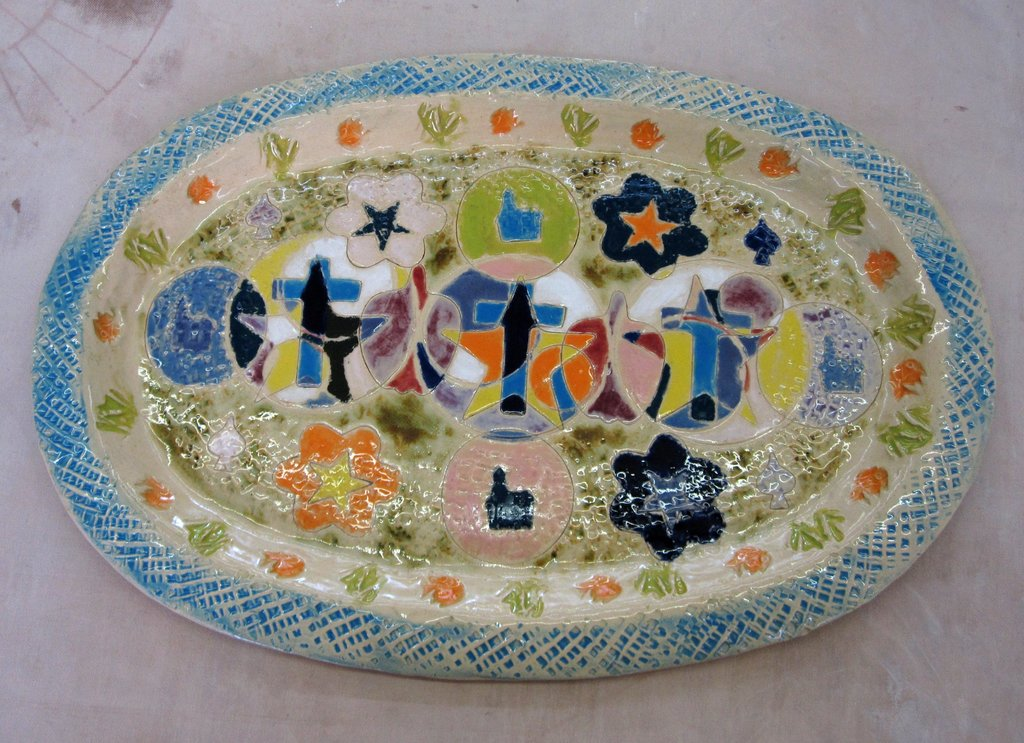plate: (26, 56, 999, 682)
